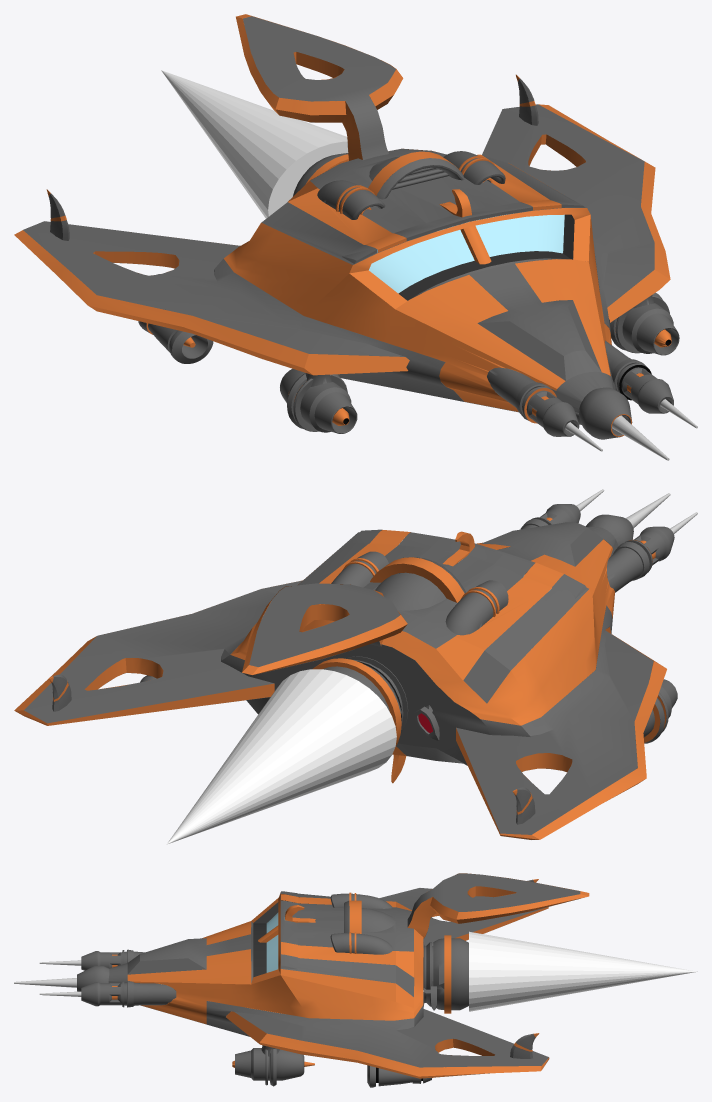
The model's file is spaceship2.gltf.
The picture shows the model from 3 angles, top to bottom: view 1: azimuth 30°, elevation 25°; view 2: azimuth 150°, elevation 25°; view 3: azimuth 270°, elevation 25°; orthographic projection. The views are drawn at different scales.
Visible parts, largest first — view 1: Cube.003, Cone; view 2: Cube.003, Cone; view 3: Cube.003, Cone.
Boxes of the visible parts, left/top/right/bottom form: Cube.003: left=14, top=14, right=697, bottom=460; Cone: left=161, top=70, right=348, bottom=218; Cube.003: left=14, top=489, right=697, bottom=839; Cone: left=166, top=669, right=396, bottom=844; Cube.003: left=14, top=873, right=589, bottom=1087; Cone: left=469, top=931, right=697, bottom=1011.
Size of the model in its own units: 3.63 by 1.36 by 5.64.
